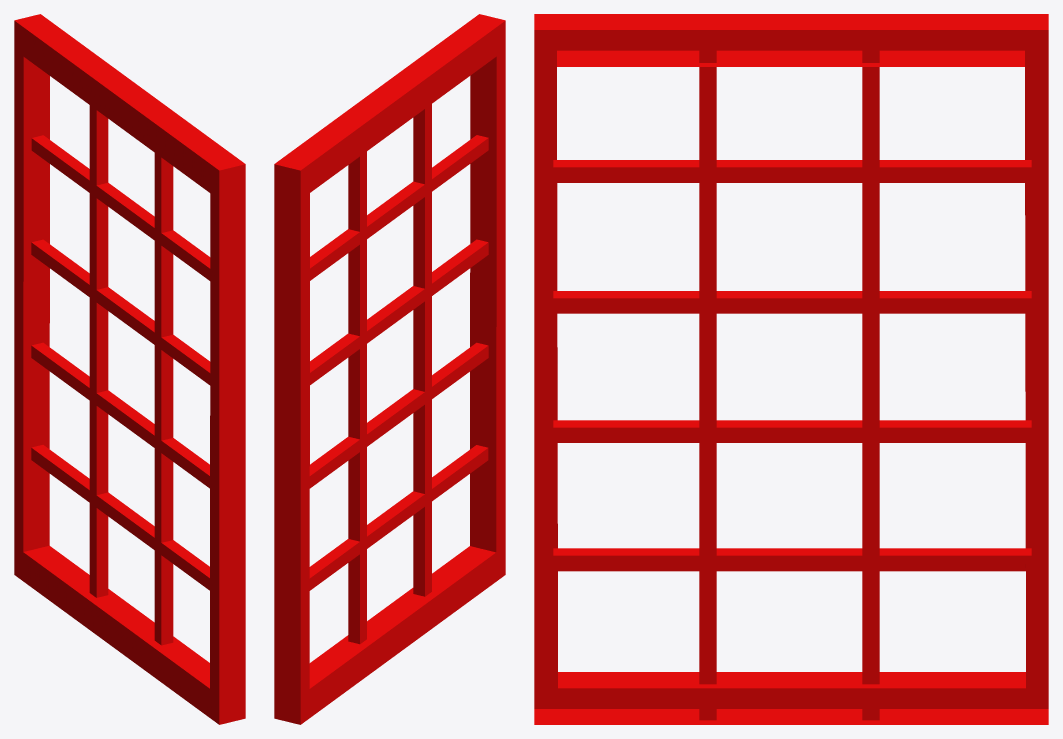
Rendered from Window.fbx.
The picture shows the model from 3 angles, left to right: view 1: azimuth 30°, elevation 25°; view 2: azimuth 150°, elevation 25°; view 3: azimuth 270°, elevation 25°; orthographic projection. The views are drawn at different scales.
Visible parts, largest first — view 1: Library_Window; view 2: Library_Window; view 3: Library_Window.
Part boxes in pixels (left/top/right/bottom): Library_Window: left=14, top=14, right=245, bottom=724; Library_Window: left=274, top=14, right=505, bottom=724; Library_Window: left=534, top=14, right=1048, bottom=724.
Size of the model in its own units: 12.35 by 248 by 166.
